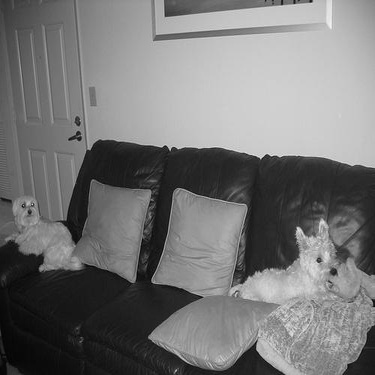dog: (197, 199, 362, 322), (3, 184, 88, 286)
